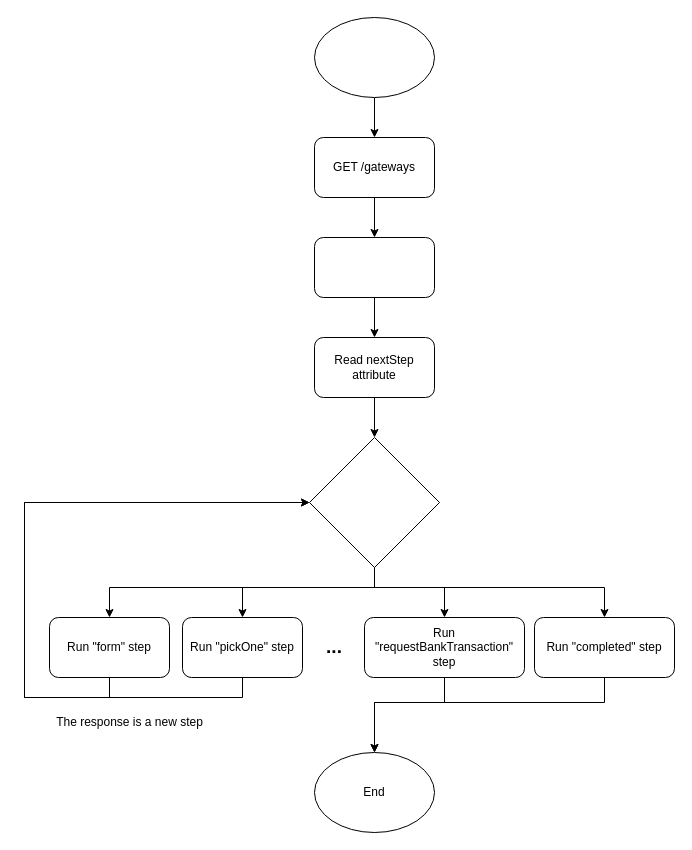
Some shapes in this 692 by 850 pixel diagram are drawn without their labels. Here are the shapes that lost their labels. From the top down, the centre of each, then its label:
At pixel 374 57: "Start".
At pixel 374 267: "GET /rates".
At pixel 374 502: "switch(stepType)".
